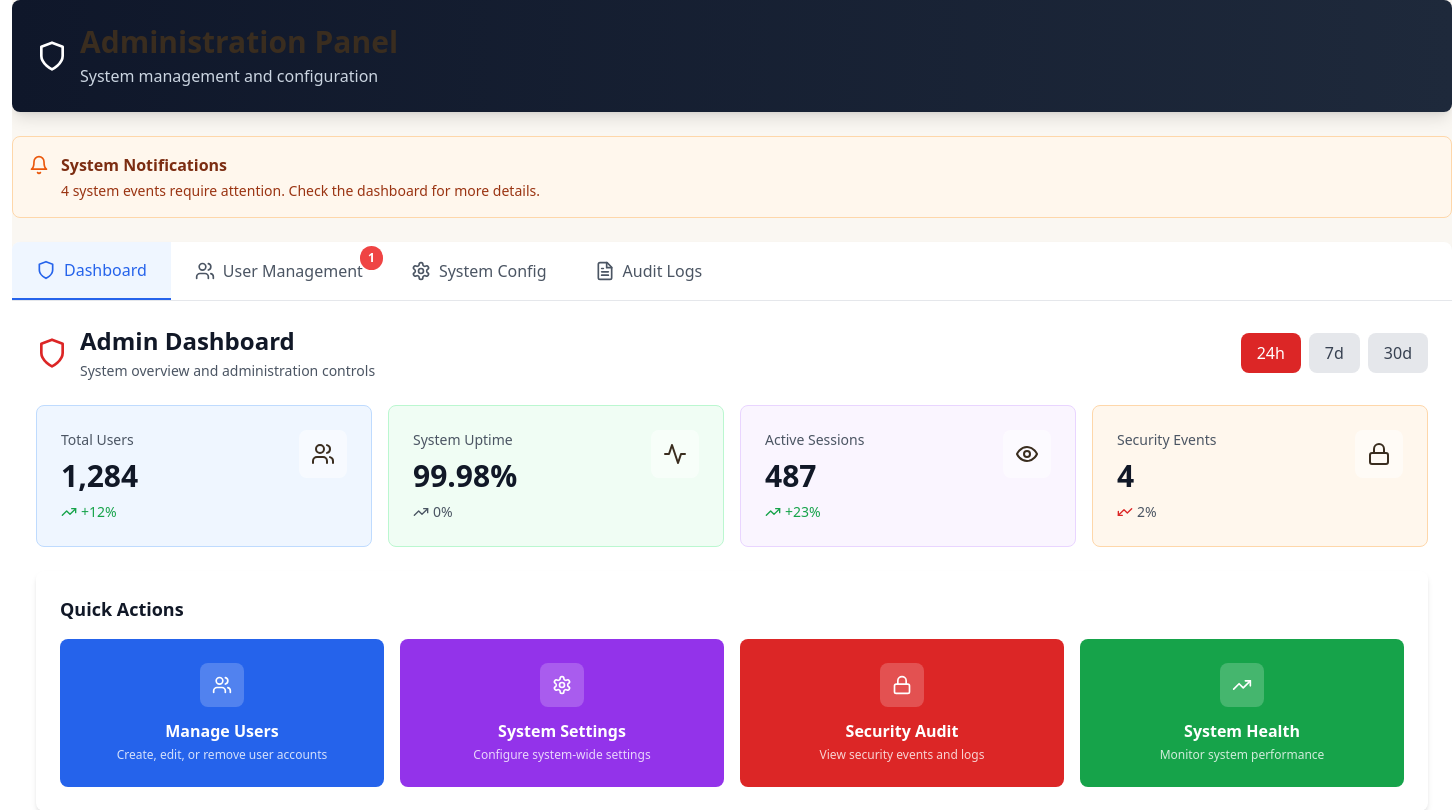
Integration Tests - Tab Navigation › data persists when switching tabs
The image size is (1452, 810).
expect the text "1,284" is shown: met, box [61, 458, 138, 494]
// Switch to users and back
What coordinates should you click on to do the following:
click the button "User Management 1"
I would click on:
 (279, 271)
Its box is [171, 242, 387, 300].
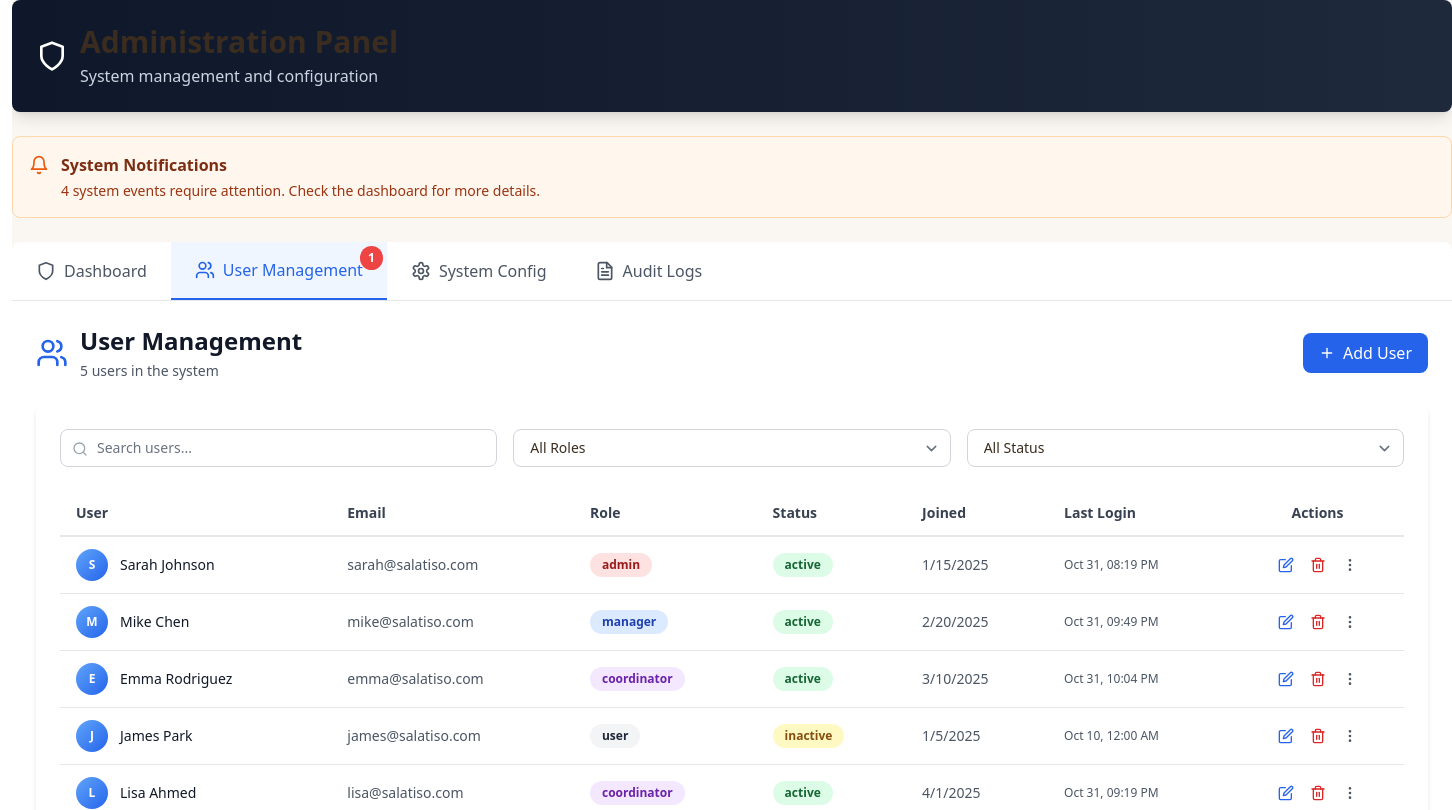
What coordinates should you click on to do the following:
click the button "Dashboard"
I would click on:
 (91, 271)
Its box is [12, 242, 171, 300].
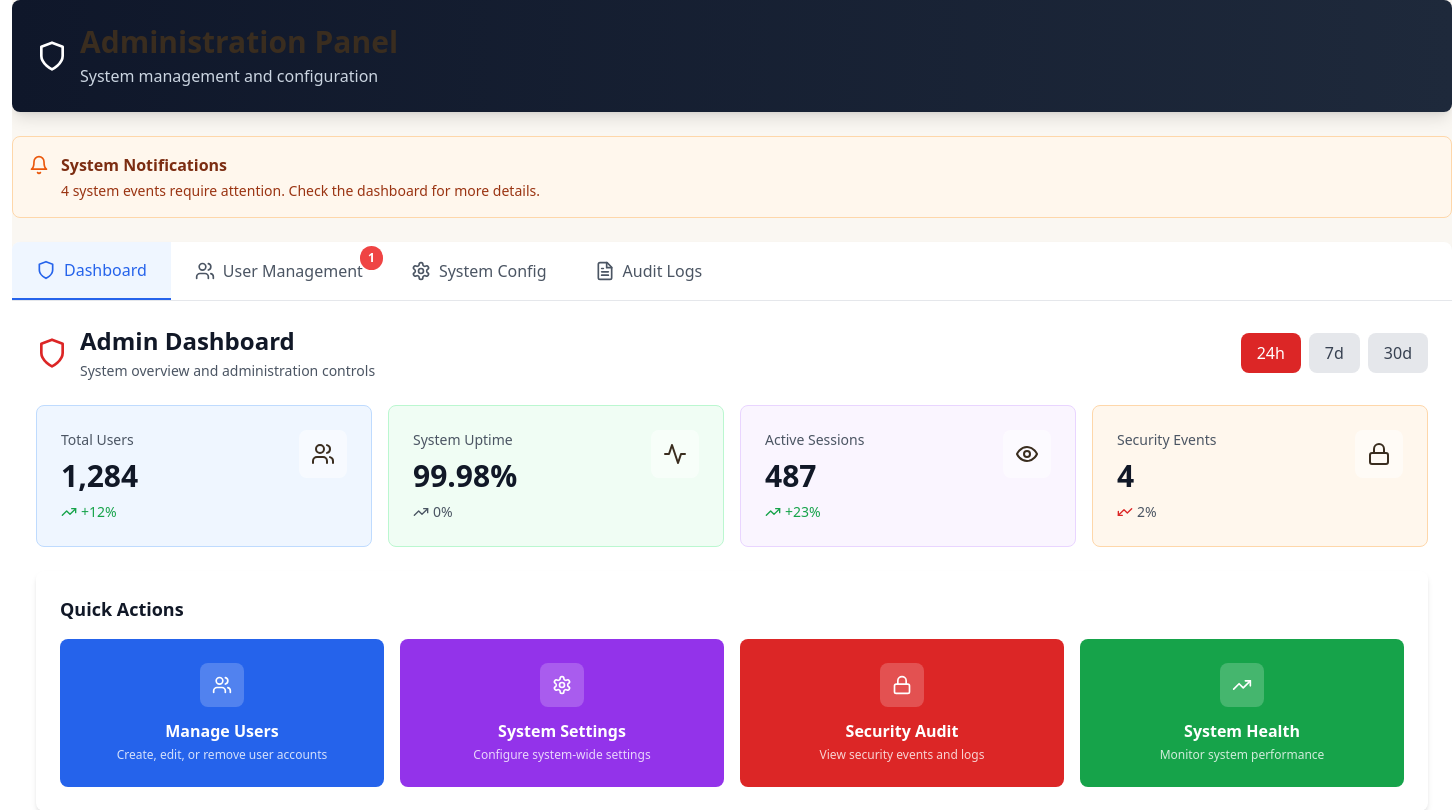
expect the text "1,284" is shown: met, box [61, 458, 138, 494]
